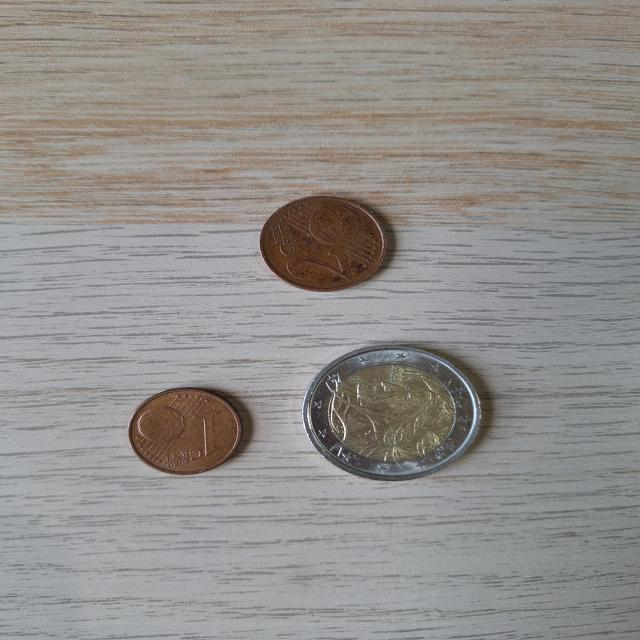1c: (116, 376, 260, 492)
2c: (248, 182, 402, 302)
2e: (293, 332, 507, 499)
